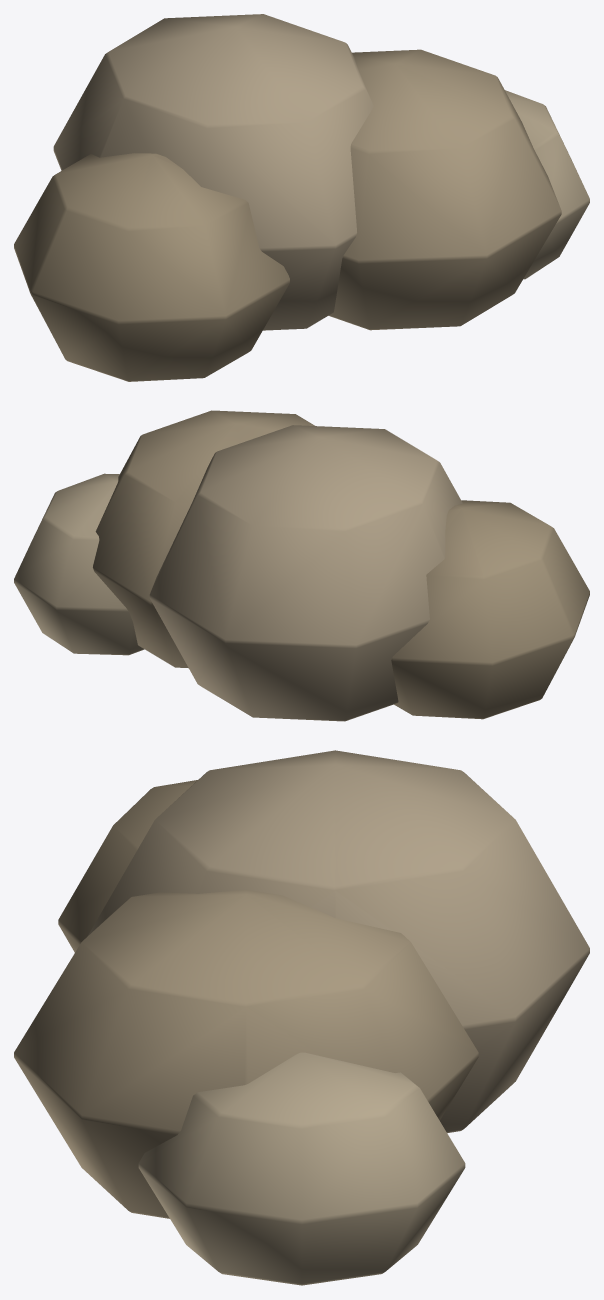
Rendered from fx_dust_puff.glb.
3 renders of one model, top to bottom at view 1: azimuth 30°, elevation 25°; view 2: azimuth 150°, elevation 25°; view 3: azimuth 270°, elevation 25°, orthographic. The views are drawn at different scales.
Parts seen in each view (by area): view 1: fx_dust_puff; view 2: fx_dust_puff; view 3: fx_dust_puff.
Part boxes in pixels (<box>): fx_dust_puff: <box>14,14,589,381</box>; fx_dust_puff: <box>14,410,589,721</box>; fx_dust_puff: <box>14,750,589,1285</box>.
Bounding box in the file's own units: 0.4 × 0.2 × 0.28.
